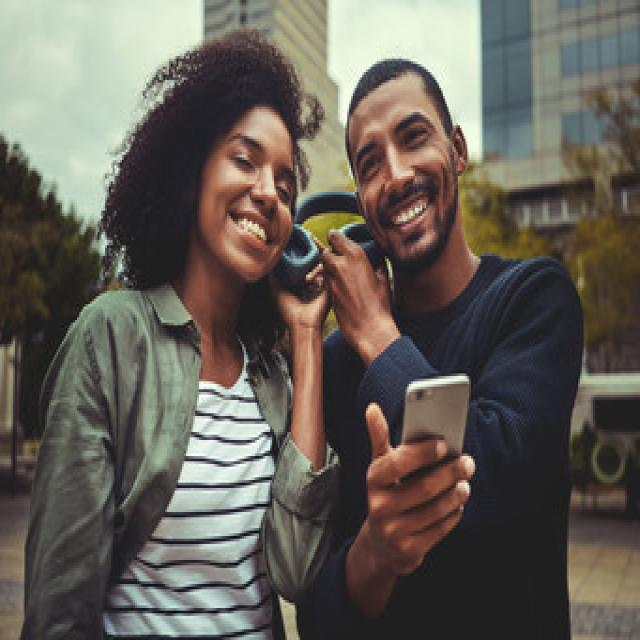Headphone: (273, 186, 387, 296)
